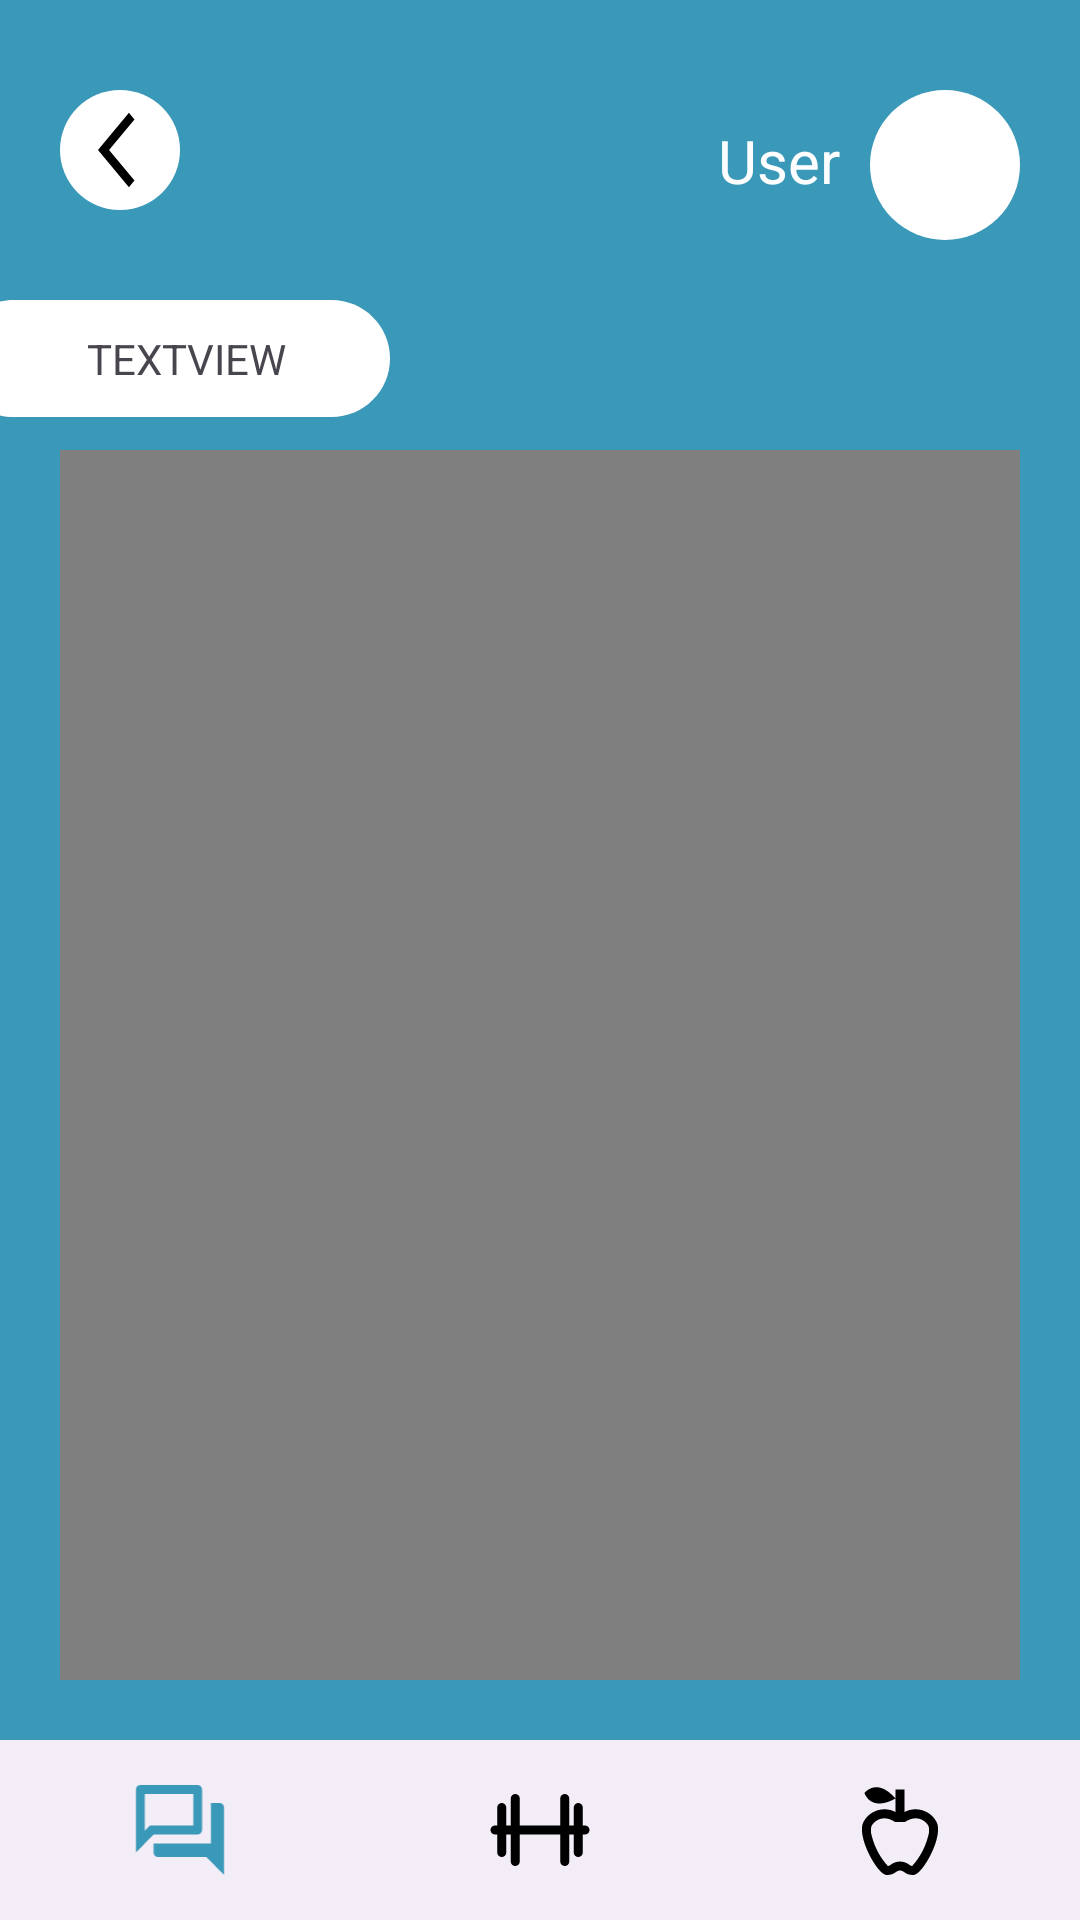

Screen size 1080px x 1920px. Icon name, then its box in pixels as bbox=[x1, y1, x2, y2]:
arrow back: bbox=[60, 90, 180, 210]
